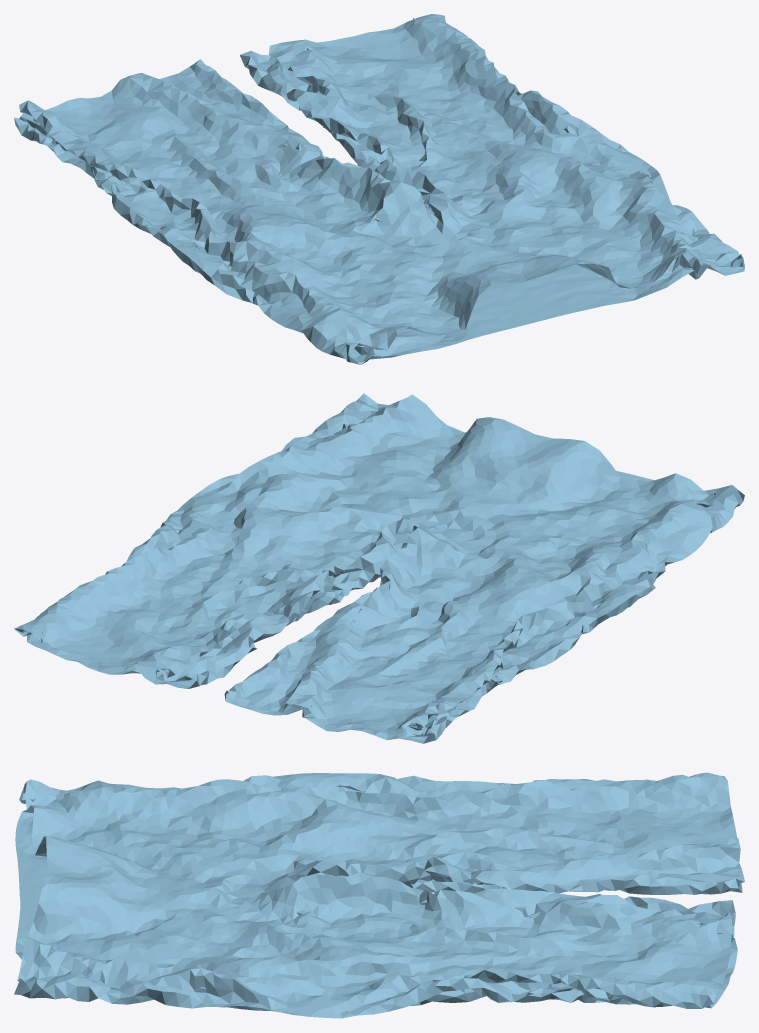
Rendered from frame_00.glb.
The picture shows the model from 3 angles, top to bottom: view 1: azimuth 30°, elevation 25°; view 2: azimuth 150°, elevation 25°; view 3: azimuth 270°, elevation 25°; orthographic projection. The views are drawn at different scales.
Visible parts, largest first — view 1: frame_00.obj; view 2: frame_00.obj; view 3: frame_00.obj.
Part boxes in pixels (box(x1,y1,x2,y2)): frame_00.obj: box(14, 14, 744, 364); frame_00.obj: box(14, 393, 744, 743); frame_00.obj: box(14, 772, 744, 1018).
Bounding box in the file's own units: 1.22 × 0.1125 × 1.61.
